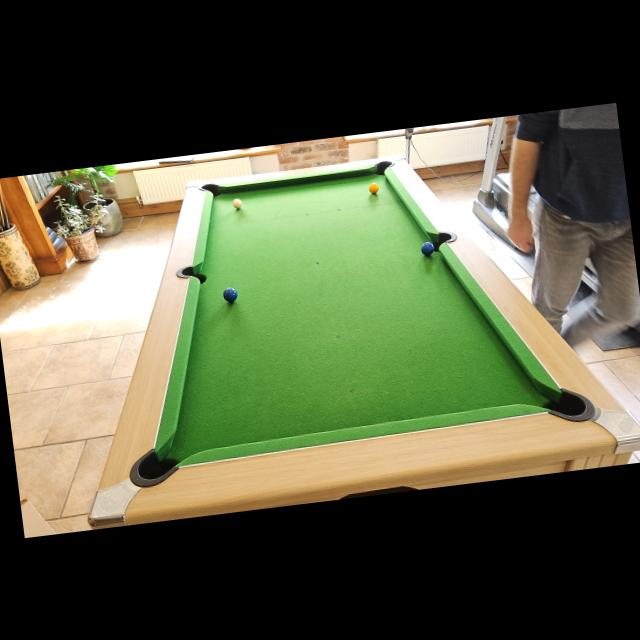Ball: (222, 286, 238, 304), (420, 242, 434, 257), (368, 182, 380, 194), (232, 197, 242, 209)
